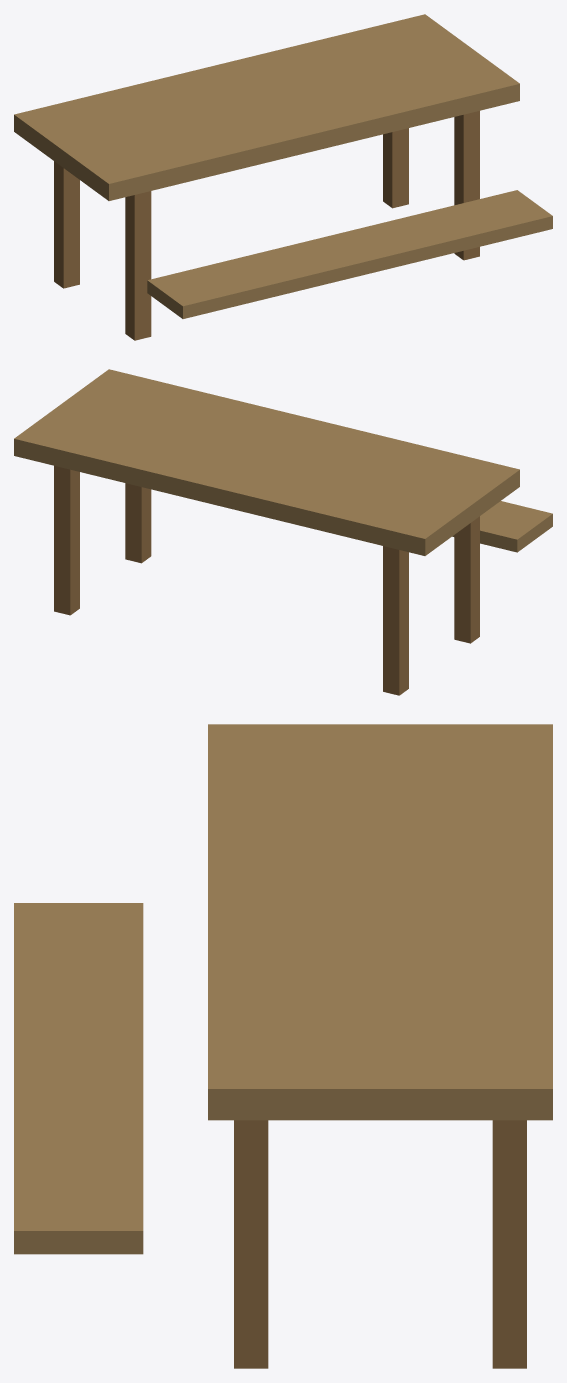
File: env-med-taverntable.glb
The picture shows the model from 3 angles, top to bottom: view 1: azimuth 30°, elevation 25°; view 2: azimuth 150°, elevation 25°; view 3: azimuth 270°, elevation 25°; orthographic projection. The views are drawn at different scales.
Bounding box in the file's own units: 2 × 0.79 × 1.25.
